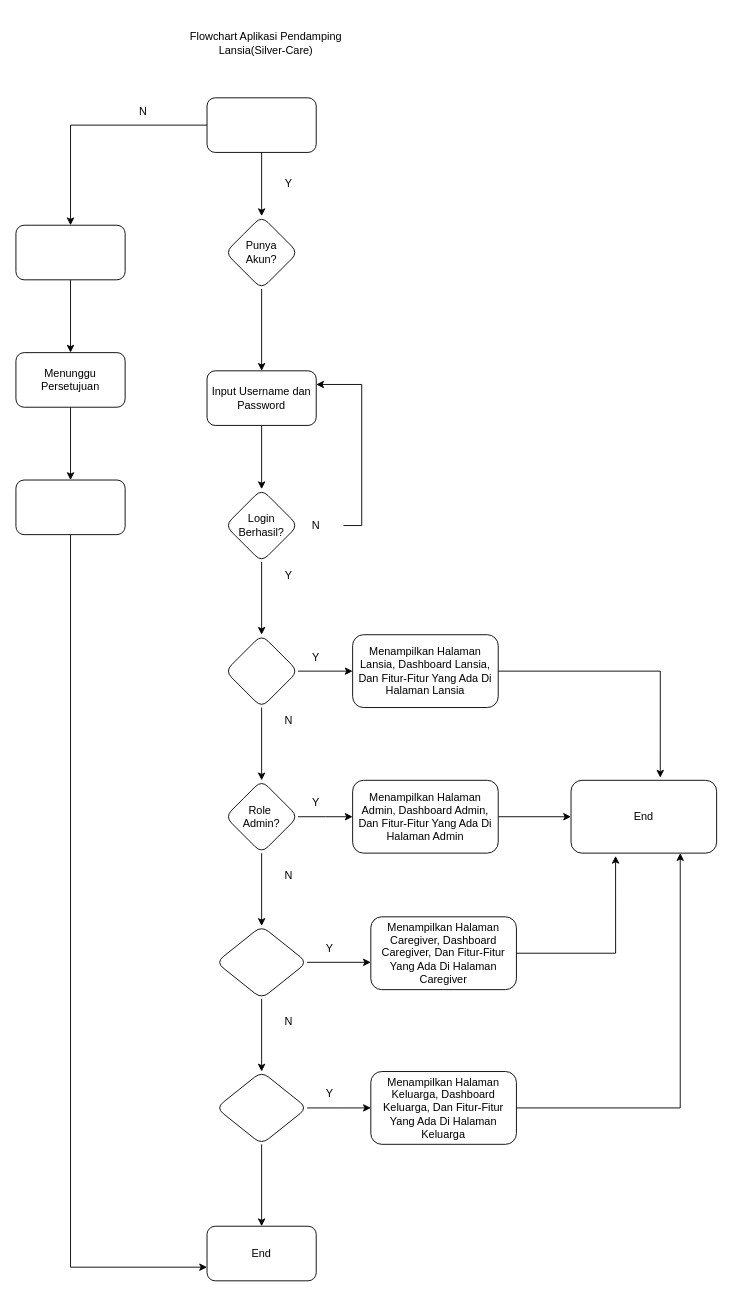
This 733x1297 diagram has some shape labels left out. The box of each missing label's shape, as (x1, y1, x2, y2) in pixels:
Halaman Register: (15, 224, 125, 280)
Role Caregiver?: (215, 925, 307, 999)
Role Keluarga?: (215, 1071, 307, 1144)
Role Lansia?: (224, 634, 298, 708)
Start: (206, 97, 316, 152)
User Management(Admin): (15, 479, 125, 535)
